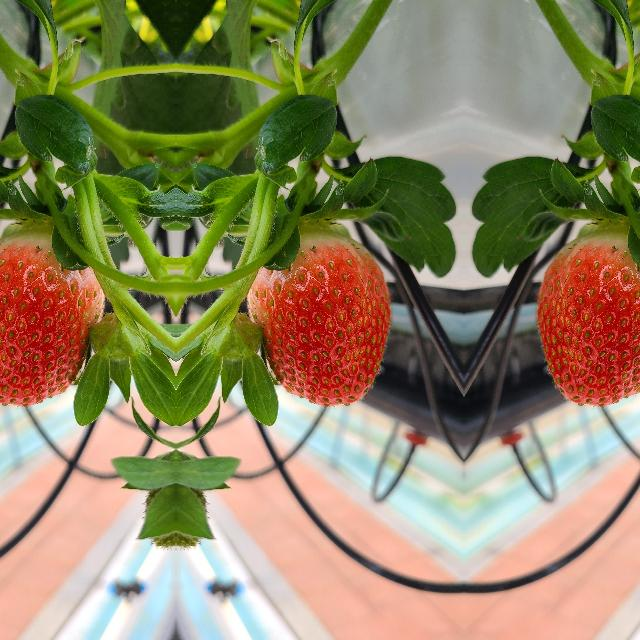Health_100: (244, 229, 392, 411), (0, 229, 106, 411), (534, 229, 640, 411)
